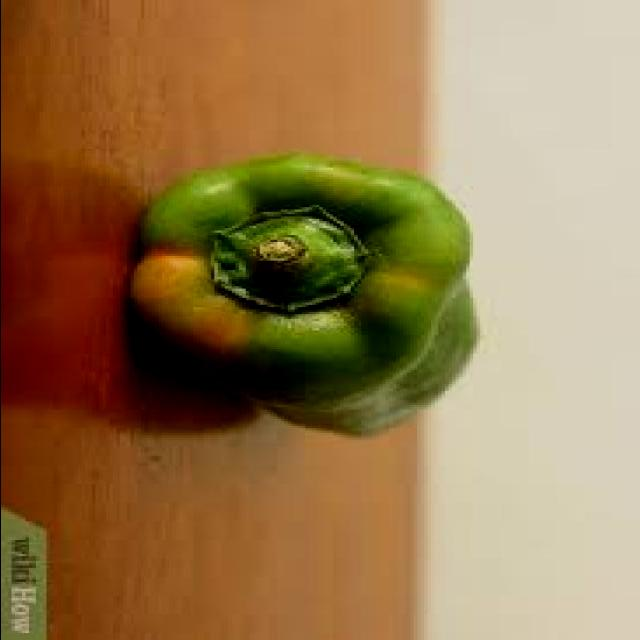bell_pepper: (104, 111, 506, 444)
